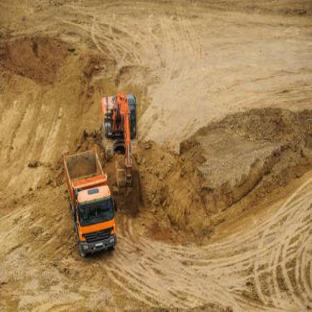ExcavationMachinery: (86, 65, 147, 190)
Vehicle: (54, 150, 119, 257)
